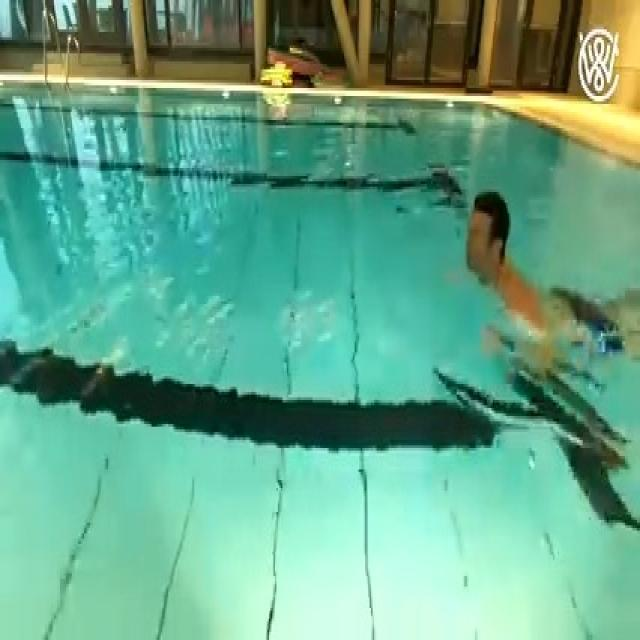Swimming: (447, 181, 640, 392)
